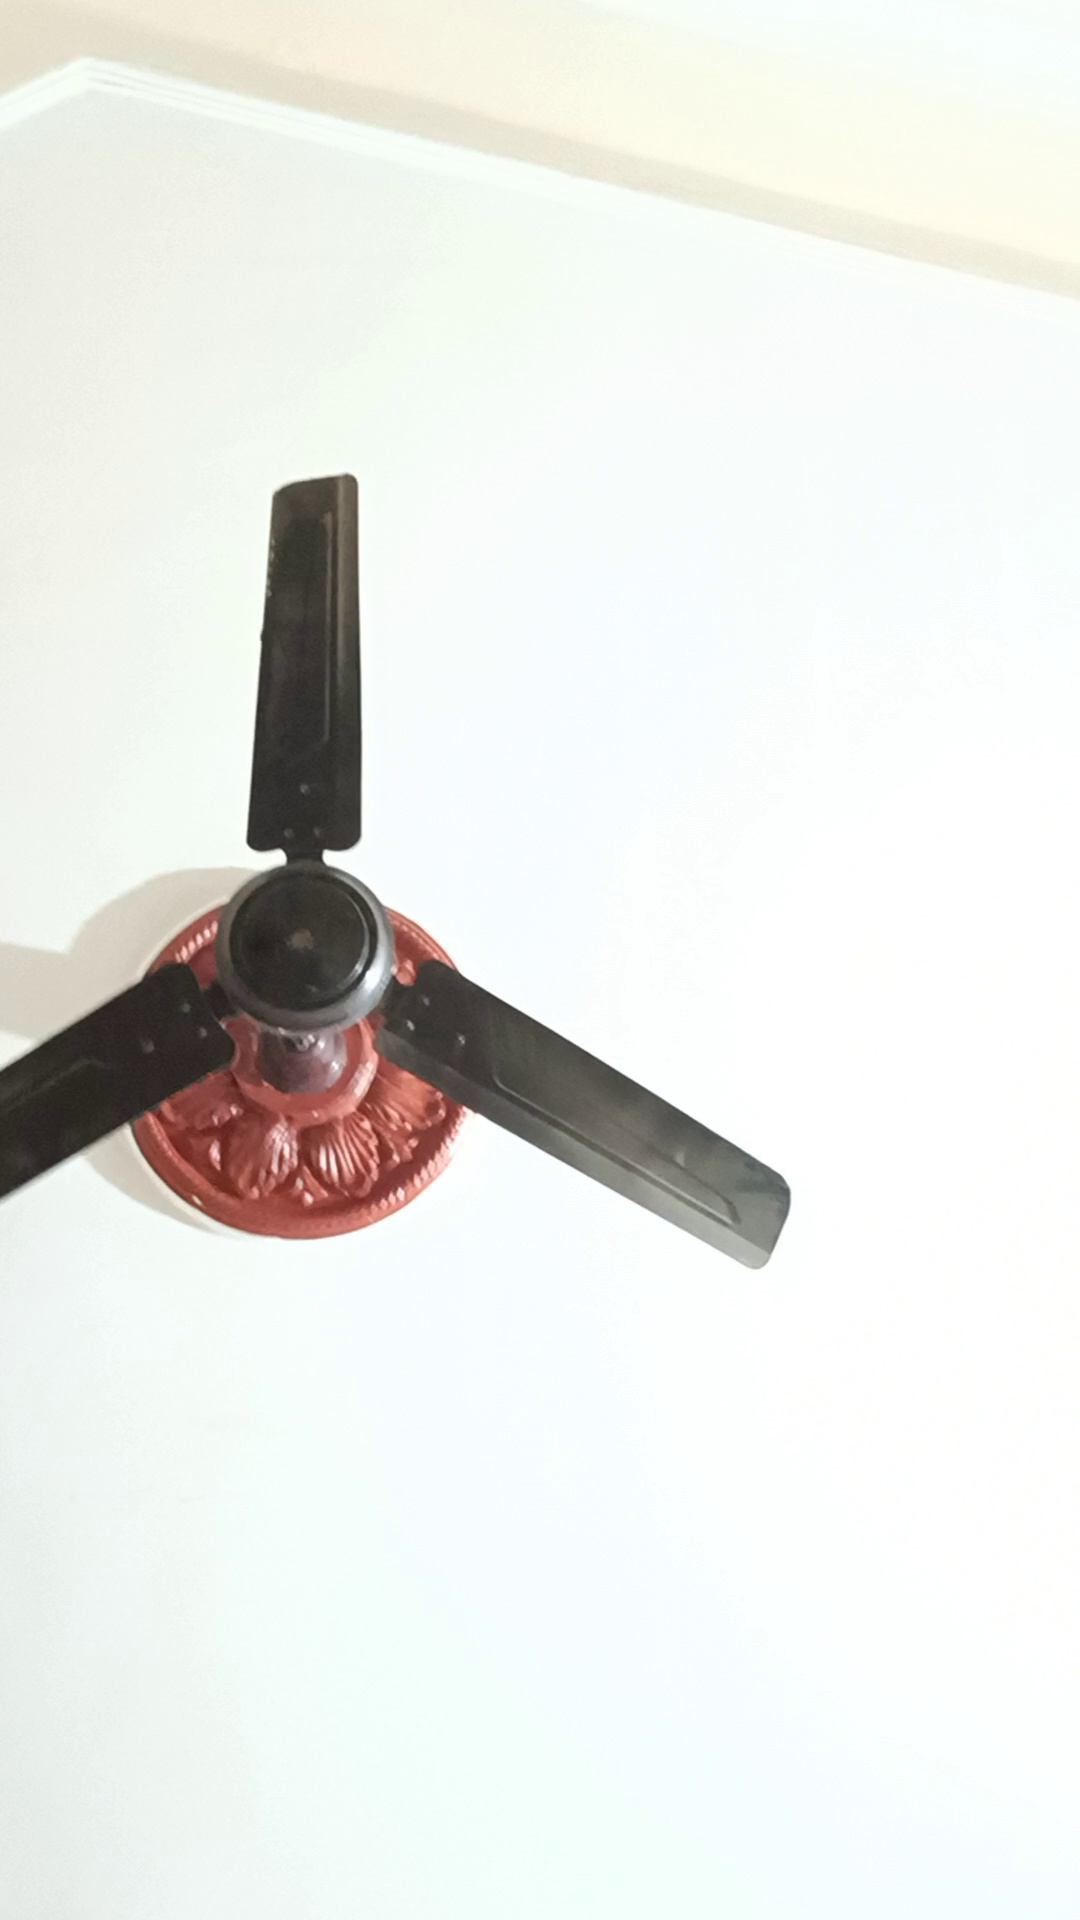fan: (214, 427, 795, 1278)
